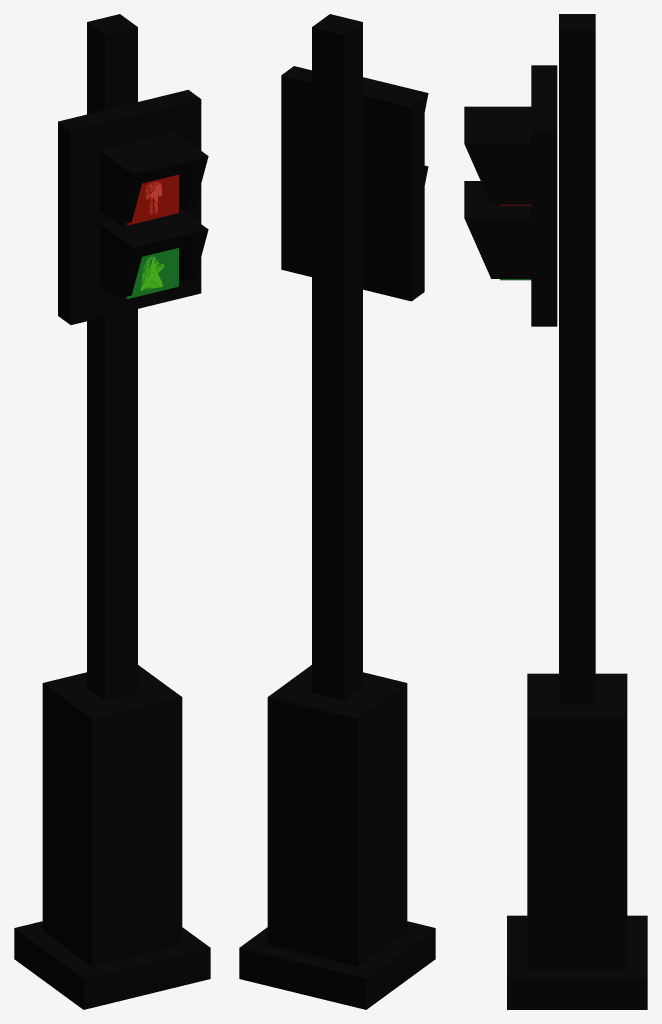
The model's file is Semaforo.fbx.
3 renders of one model, left to right at view 1: azimuth 30°, elevation 25°; view 2: azimuth 150°, elevation 25°; view 3: azimuth 270°, elevation 25°, orthographic.
Visible parts, largest first — view 1: Semaforo, Prosseguir, Parar; view 2: Semaforo; view 3: Semaforo.
Boxes of the visible parts, x1=… form: Semaforo: x1=14, y1=14, x2=210, y2=1009; Prosseguir: x1=125, y1=248, x2=178, y2=298; Parar: x1=125, y1=174, x2=178, y2=225; Semaforo: x1=239, y1=14, x2=435, y2=1009; Semaforo: x1=464, y1=14, x2=647, y2=1009.
Size of the model in its own units: 272 by 1880 by 326.
